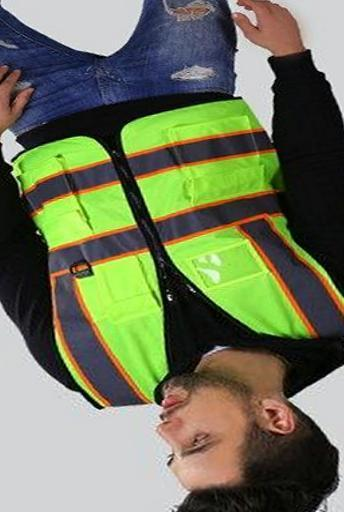Vest: (32, 109, 339, 378)
